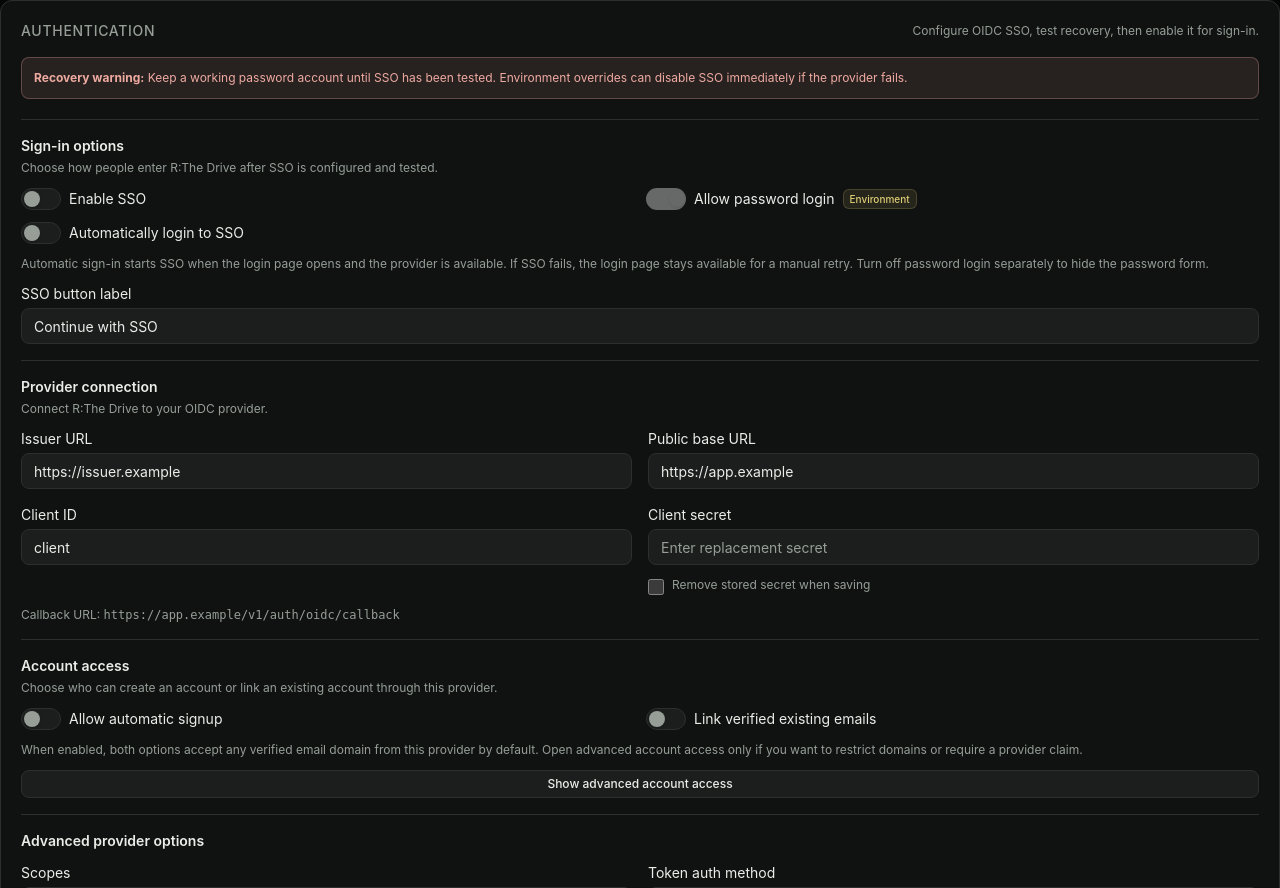
Test: AuthenticationSection › explains the broad verified-email account linking policy
Expected: the text "automatic account linking is on" is not shown
Click the switch named "Link verified existing emails".
click(666, 719)  # box [646,708,686,730]
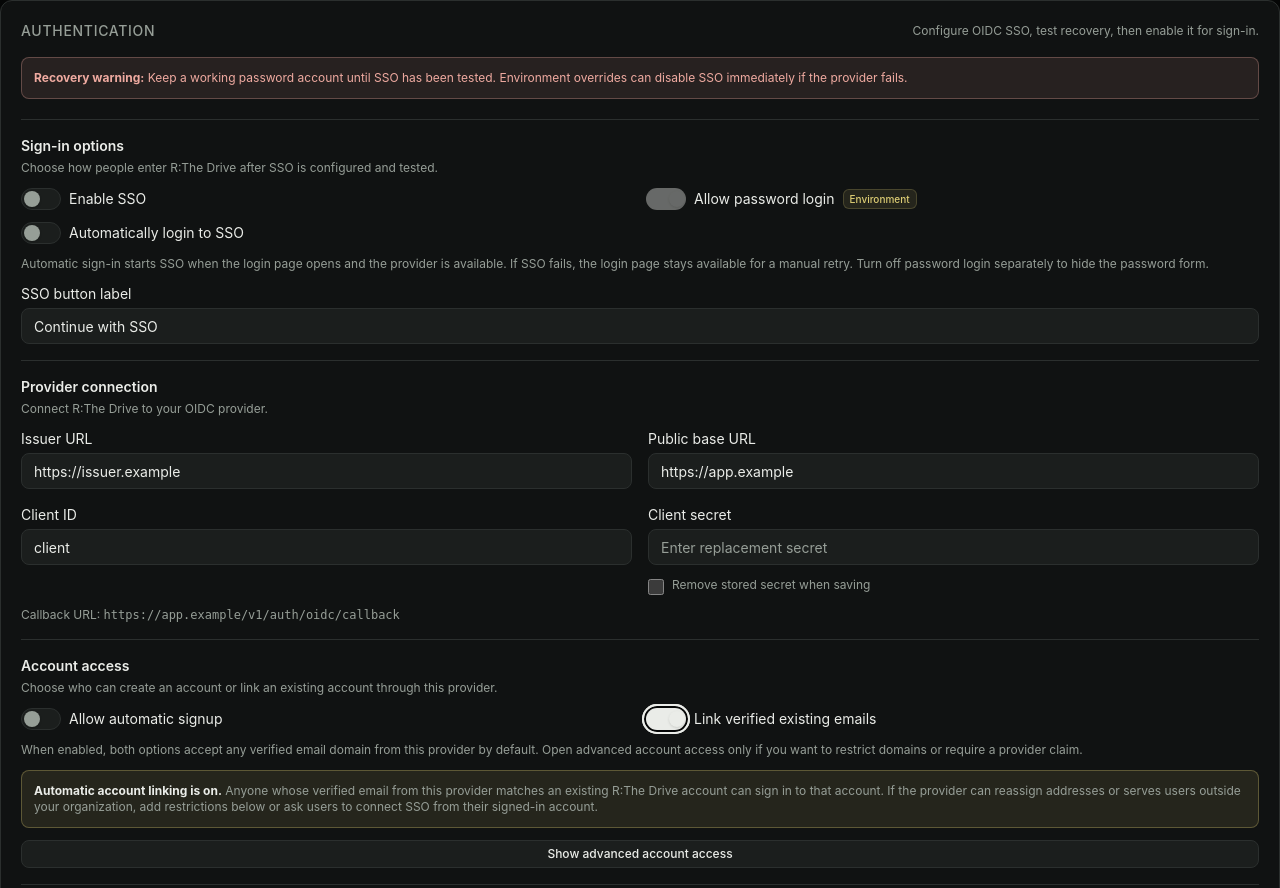
Expected: the text "Automatic account linking is on." is shown, [34,783,222,798]
Expected: the text "Anyone whose verified email" is shown, [34,783,1241,814]
